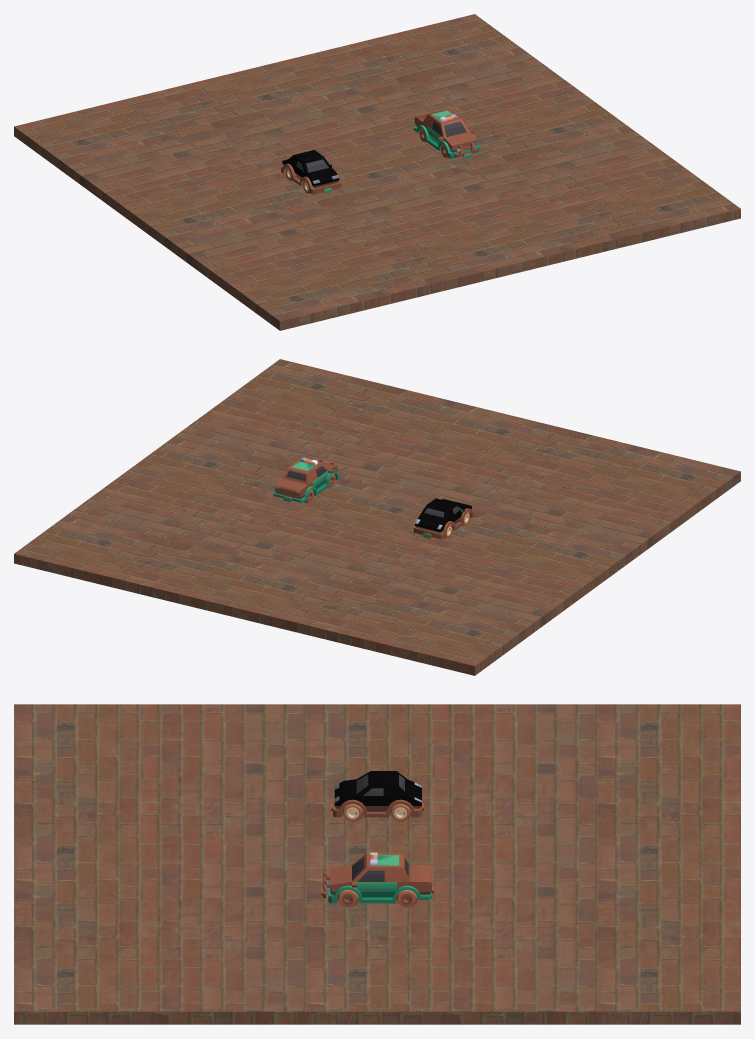
Rendered from cars.gltf.
The picture shows the model from 3 angles, top to bottom: view 1: azimuth 30°, elevation 25°; view 2: azimuth 150°, elevation 25°; view 3: azimuth 270°, elevation 25°; orthographic projection. The views are drawn at different scales.
Visible parts, largest first — view 1: floor, police, car; view 2: floor, police, car; view 3: floor, police, car.
Part boxes in pixels (x1,y1,x2,y2): floor: (14,14,740,330); police: (413,109,479,158); car: (281,150,341,194); floor: (14,359,740,675); police: (273,457,339,503); car: (413,498,473,539); floor: (14,704,740,1024); police: (321,852,433,907); car: (331,771,423,821).
Size of the model in its own units: 7.87 by 0.7248 by 7.87.
Materials: 2 (2 with a texture image).
